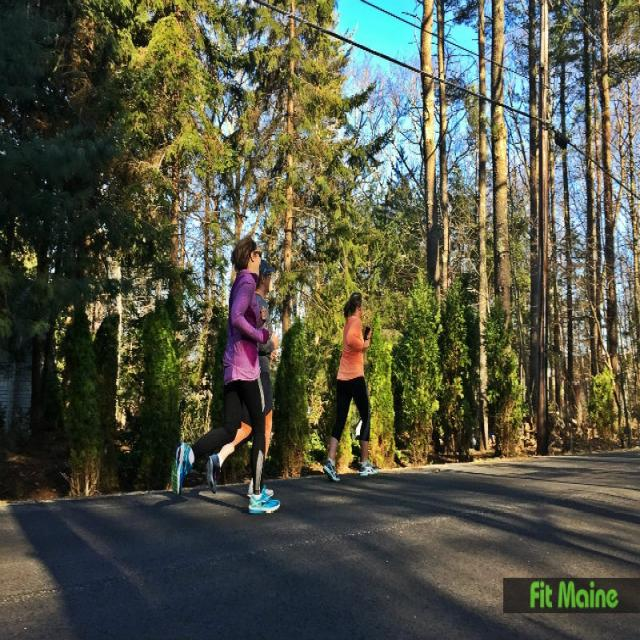body: (167, 230, 281, 517), (202, 258, 280, 502), (321, 289, 381, 486)
